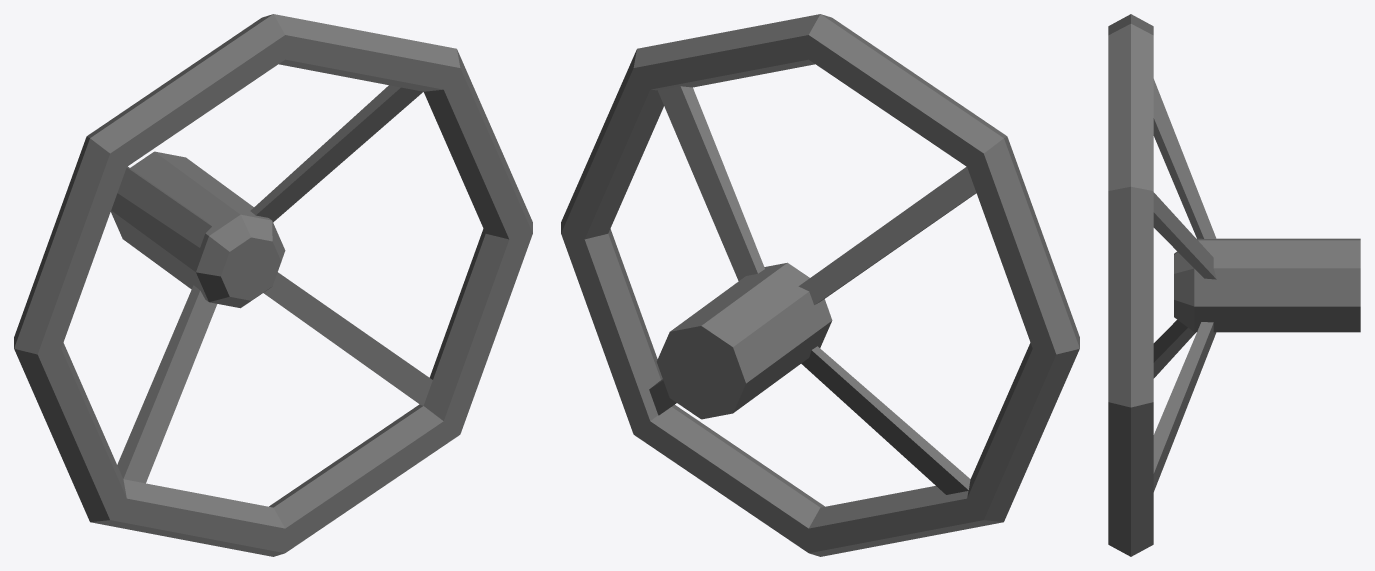
File: Steering.glb
3 renders of one model, left to right at view 1: azimuth 30°, elevation 25°; view 2: azimuth 150°, elevation 25°; view 3: azimuth 270°, elevation 25°, orthographic. The views are drawn at different scales.
Parts seen in each view (by area): view 1: Steering; view 2: Steering; view 3: Steering.
Part boxes in pixels (bbox=[...]): Steering: bbox=[14, 14, 532, 556]; Steering: bbox=[561, 14, 1079, 556]; Steering: bbox=[1108, 14, 1360, 556].
Bounding box in the file's own units: 0.44 × 0.44 × 0.1923.
Materials: 1 (1 with a texture image).
